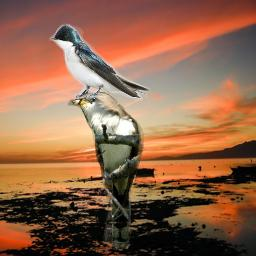Cuckoo: (68, 92, 144, 249)
Swallow: (49, 23, 151, 101)
